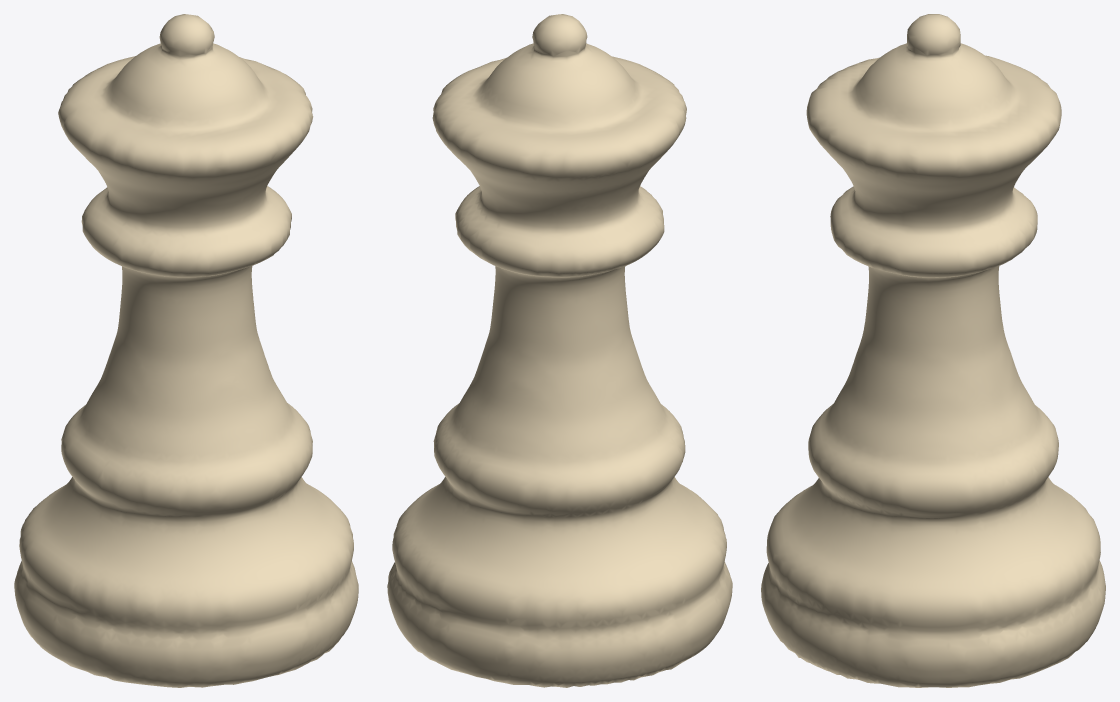
Rendered from KFB_Chess_queen_light.r1.glb.
3 renders of one model, left to right at view 1: azimuth 30°, elevation 25°; view 2: azimuth 150°, elevation 25°; view 3: azimuth 270°, elevation 25°, orthographic.
Parts seen in each view (by area): view 1: KFB_Chess_queen_light; view 2: KFB_Chess_queen_light; view 3: KFB_Chess_queen_light.
Boxes of the visible parts, <box> form: KFB_Chess_queen_light: <box>14,14,358,687</box>; KFB_Chess_queen_light: <box>387,14,732,687</box>; KFB_Chess_queen_light: <box>761,14,1105,687</box>.
Bounding box in the file's own units: 2.86 × 5.56 × 2.88.
